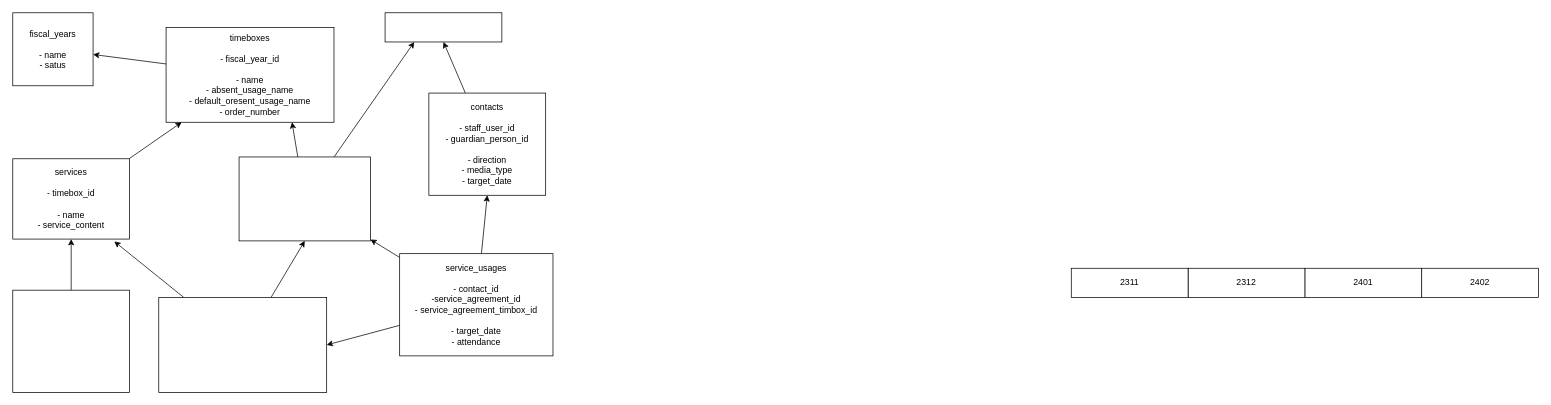
Some shapes in this 1551 by 405 pixel diagram are drawn without their labels. Each missing label, with the centre of its shape:
"people" belongs at point 443,27.
"service_agreement_timeboxes - person_id - timebox_id - count - commnet" belongs at point 304,198.
"service_agreements - service_agreement_timebox_id - service_id - count - comment" belongs at point 242,344.
"service_groupings - service_id - class_id - count_offset staff_count_offset" belongs at point 71,340.
